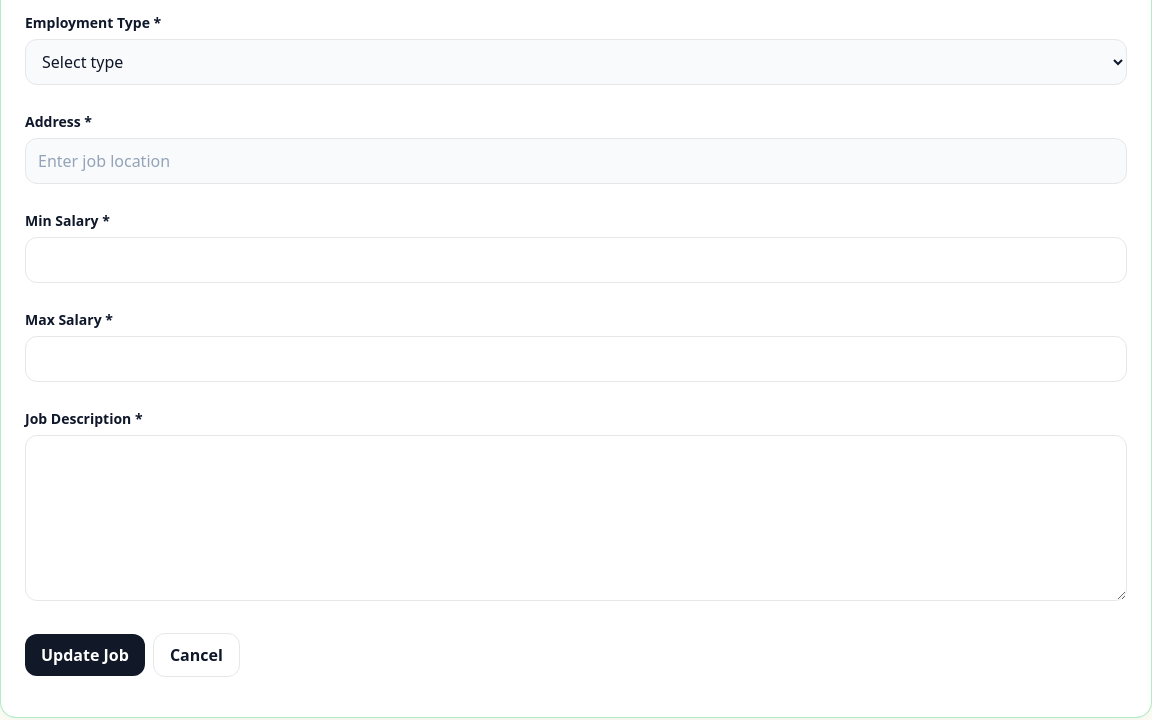
Test: shows validation errors if required fields missing
This screenshot has width=1152, height=720.
(page scrolled)
Click the button "Update Job".
click(85, 655)  # box [25,634,145,676]
(page scrolled)
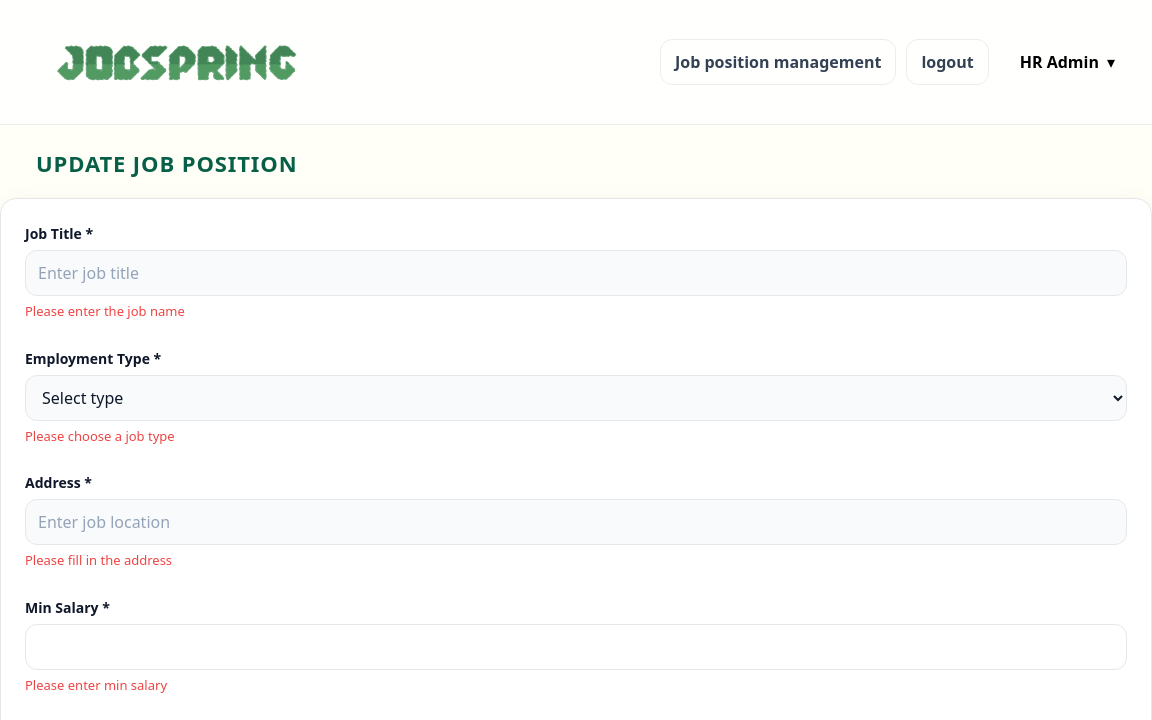
Now the text "Please enter the job name" is shown, box [25,302,185,320]
